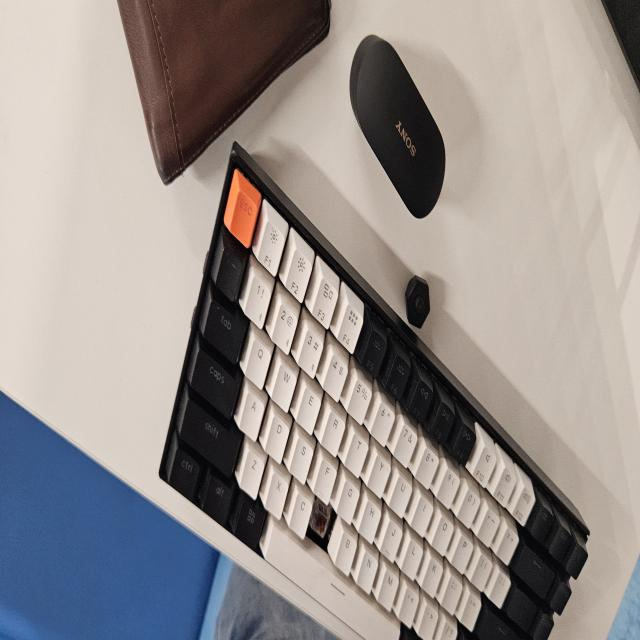C: (312, 500, 331, 542)
